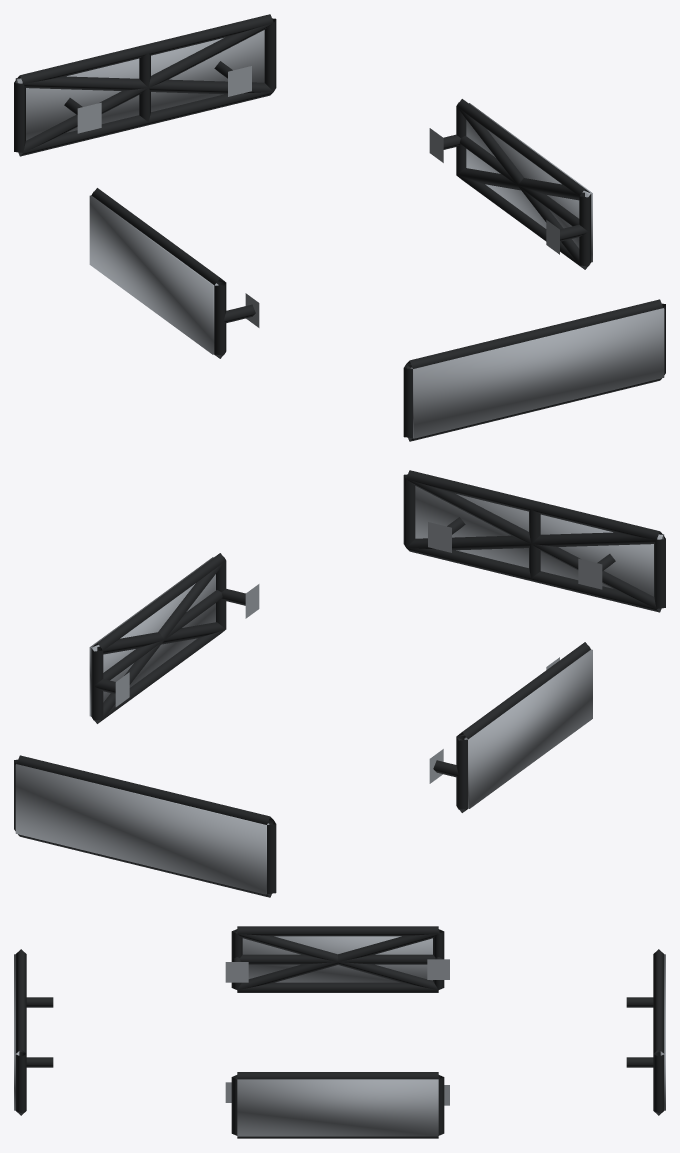
The model's file is kosame_ervilha_protecao.glb.
The picture shows the model from 3 angles, top to bottom: view 1: azimuth 30°, elevation 25°; view 2: azimuth 150°, elevation 25°; view 3: azimuth 270°, elevation 25°; orthographic projection. The views are drawn at different scales.
Visible parts, largest first — view 1: Protection_front_Level3_Details, Protection_rear_Level1_Details, Protection_left_Level3_Details, Protection_rear_Level3_Details, Protection_rear_Level2_Details, Protection_right_Level1_Details, Protection_front_Level1_Details, Protection_right_Level2_Details, Protection_right_Level3_Details, Protection_left_Level1_Details; view 2: Protection_rear_Level3_Details, Protection_front_Level1_Details, Protection_left_Level3_Details, Protection_front_Level3_Details, Protection_front_Level2_Details, Protection_right_Level1_Details, Protection_rear_Level1_Details, Protection_right_Level2_Details, Protection_right_Level3_Details, Protection_left_Level1_Details; view 3: Protection_right_Level3_Details, Protection_left_Level1_Details, Protection_left_Level2_Details, Protection_left_Level3_Details, Protection_right_Level1_Details, Protection_rear_Level1_Details, Protection_front_Level1_Details, Protection_rear_Level3_Details, Protection_front_Level3_Details.
Boxes of the visible parts, box(x1,y1,x2,y2) form: Protection_front_Level3_Details: box(410, 308, 664, 438); Protection_rear_Level1_Details: box(14, 14, 276, 156); Protection_left_Level3_Details: box(89, 195, 218, 354); Protection_rear_Level3_Details: box(15, 30, 264, 140); Protection_rear_Level2_Details: box(17, 23, 273, 154); Protection_right_Level1_Details: box(429, 99, 591, 269); Protection_front_Level1_Details: box(403, 299, 665, 441); Protection_right_Level2_Details: box(456, 106, 589, 268); Protection_right_Level3_Details: box(466, 103, 592, 262); Protection_left_Level1_Details: box(91, 188, 259, 358); Protection_rear_Level3_Details: box(15, 764, 269, 894); Protection_front_Level1_Details: box(403, 470, 665, 612); Protection_left_Level3_Details: box(464, 649, 592, 808); Protection_front_Level3_Details: box(415, 486, 664, 596); Protection_front_Level2_Details: box(406, 479, 662, 610); Protection_right_Level1_Details: box(91, 553, 259, 723); Protection_rear_Level1_Details: box(14, 755, 276, 897); Protection_right_Level2_Details: box(92, 561, 225, 722); Protection_right_Level3_Details: box(89, 557, 215, 716); Protection_left_Level1_Details: box(429, 642, 590, 812); Protection_right_Level3_Details: box(237, 1079, 438, 1136); Protection_left_Level1_Details: box(225, 926, 449, 992); Protection_left_Level2_Details: box(236, 929, 439, 989); Protection_left_Level3_Details: box(242, 936, 432, 982); Protection_right_Level1_Details: box(225, 1072, 449, 1138); Protection_rear_Level1_Details: box(626, 949, 664, 1115); Protection_front_Level1_Details: box(15, 949, 53, 1115); Protection_rear_Level3_Details: box(660, 954, 665, 1110); Protection_front_Level3_Details: box(14, 954, 19, 1110).
Bounding box in the file's own units: 1.73 × 0.354 × 3.14.
1 material, 1 textured.
